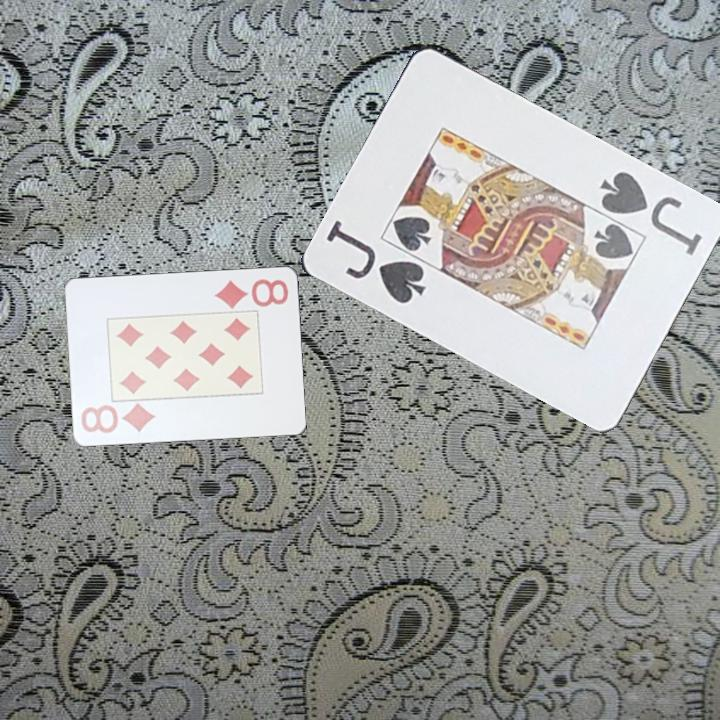8d: (210, 276, 291, 312), (77, 401, 158, 436)
Js: (595, 167, 705, 259), (322, 217, 429, 307)
